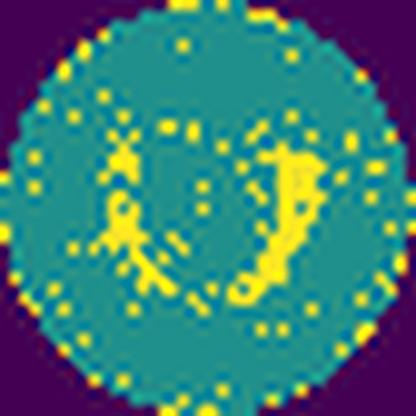Donut: (78, 86, 342, 330)
